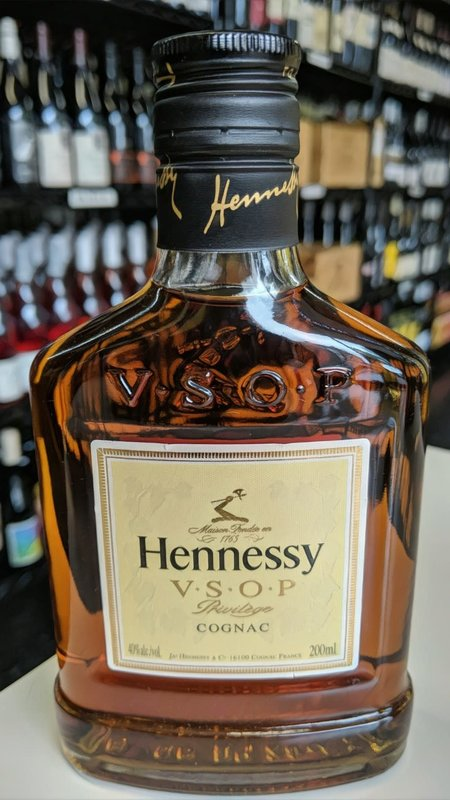Hennessy: (14, 14, 444, 800)
